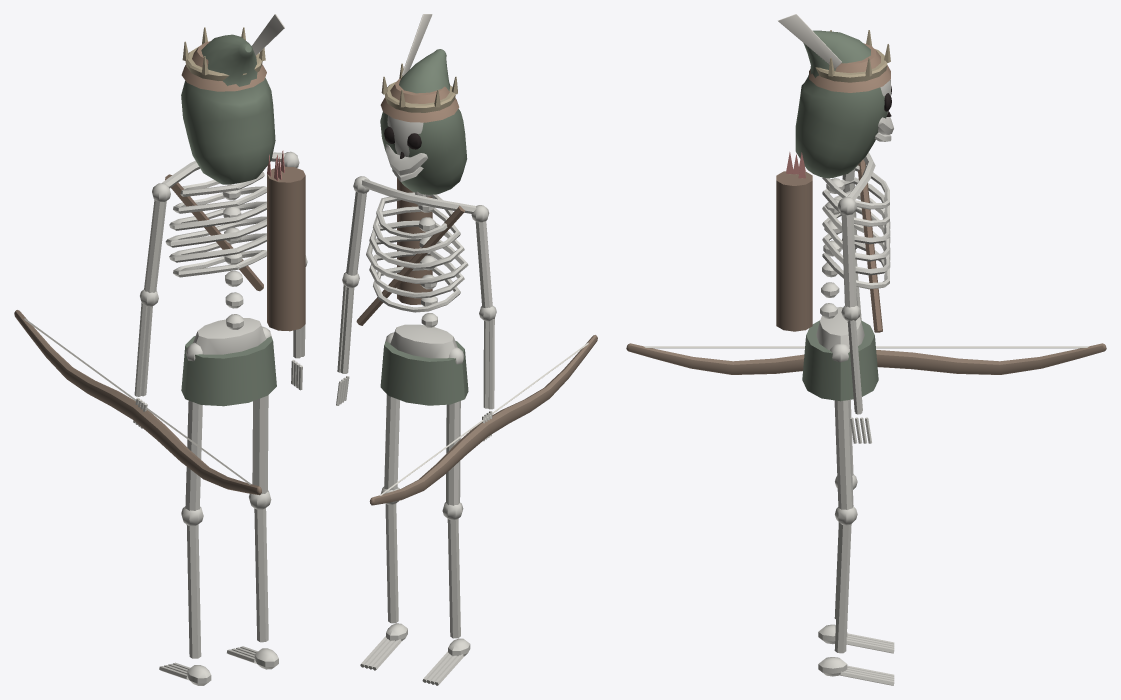
The model's file is en_skeleton_archer.gltf.
3 renders of one model, left to right at view 1: azimuth 30°, elevation 25°; view 2: azimuth 150°, elevation 25°; view 3: azimuth 270°, elevation 25°, orthographic. The views are drawn at different scales.
Parts seen in each view (by area): view 1: Spine, V1_Hood, Hips, ForeL, ShinR, ShinL, LegL, LegR, ArmL, V2_Cap, V3_Crown, ForeR; view 2: Spine, Hips, ForeL, V1_Hood, ShinR, ShinL, V2_Cap, Head, LegL, LegR, ArmL, ArmR (+2 smaller); view 3: Spine, V1_Hood, ForeL, Hips, ShinR, V2_Cap, LegR, ArmR, ForeR, ShinL, V3_Crown.
Boxes of the visible parts, x1,y1,x2,y2 form: Spine: (161,150,305,331); V1_Hood: (181,34,275,184); Hips: (181,318,276,406); ForeL: (14,303,261,495); ShinR: (227,508,278,669); ShinL: (159,524,211,685); LegL: (181,342,203,526); LegR: (249,326,271,509); ArmL: (140,183,170,306); V2_Cap: (181,14,284,91); V3_Crown: (182,27,265,80); ForeR: (291,325,305,390); Spine: (356,178,476,327); Hips: (380,324,468,405); ForeL: (369,318,597,505); V1_Hood: (380,49,467,194); ShinR: (360,503,407,670); ShinL: (422,519,470,685); V2_Cap: (380,14,459,122); Head: (384,115,427,175); LegL: (442,347,464,520); LegR: (381,332,399,504); ArmL: (471,205,496,321); ArmR: (342,176,369,288); Spine: (776,152,890,332); V1_Hood: (795,30,887,178); ForeL: (626,249,1106,374); Hips: (802,307,878,401); ShinR: (818,523,894,685); V2_Cap: (778,14,890,92); LegR: (830,344,857,525); ArmR: (837,196,860,321); ForeR: (847,320,871,443); ShinL: (818,522,894,653); V3_Crown: (815,30,890,82).
Bounding box in the file's own units: 0.5006 × 1.92 × 1.26.
